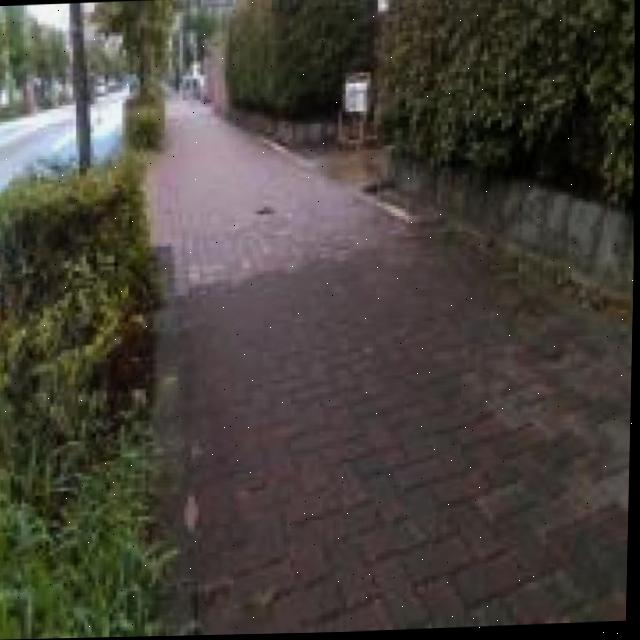Obstacle: (0, 155, 178, 640), (126, 100, 164, 150), (343, 74, 370, 115), (257, 208, 275, 215)
Road: (0, 105, 73, 183)
Sidewalk: (151, 106, 634, 636)
